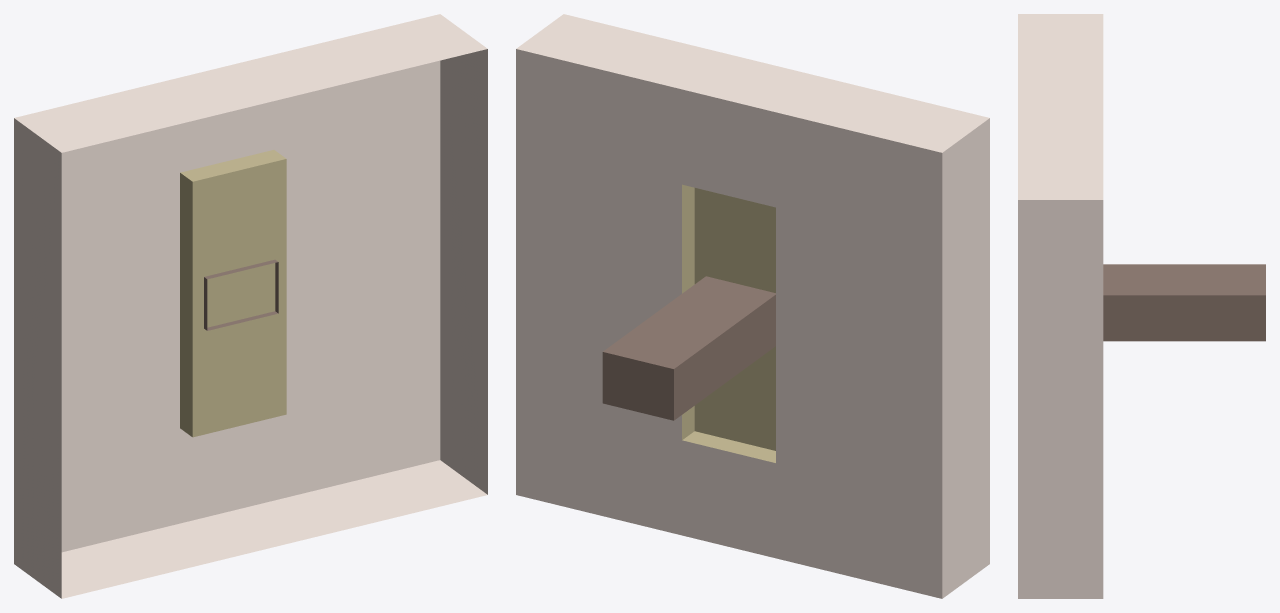
Rendered from Switch_Wall.fbx.
3 renders of one model, left to right at view 1: azimuth 30°, elevation 25°; view 2: azimuth 150°, elevation 25°; view 3: azimuth 270°, elevation 25°, orthographic. The views are drawn at different scales.
Parts seen in each view (by area): view 1: Light_Switch; view 2: Light_Switch; view 3: Light_Switch.
Boxes of the visible parts, x1,y1,x2,y2 form: Light_Switch: (14, 14, 487, 598); Light_Switch: (516, 14, 989, 598); Light_Switch: (1018, 14, 1265, 598).
Bounding box in the file's own units: 21.08 × 21.08 × 11.87.
